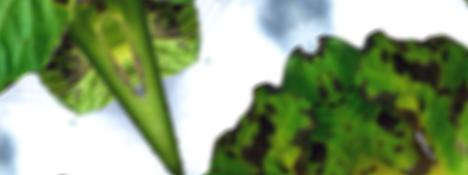Tomato leaf bacterial spot: (119, 0, 411, 175), (57, 0, 280, 52)
